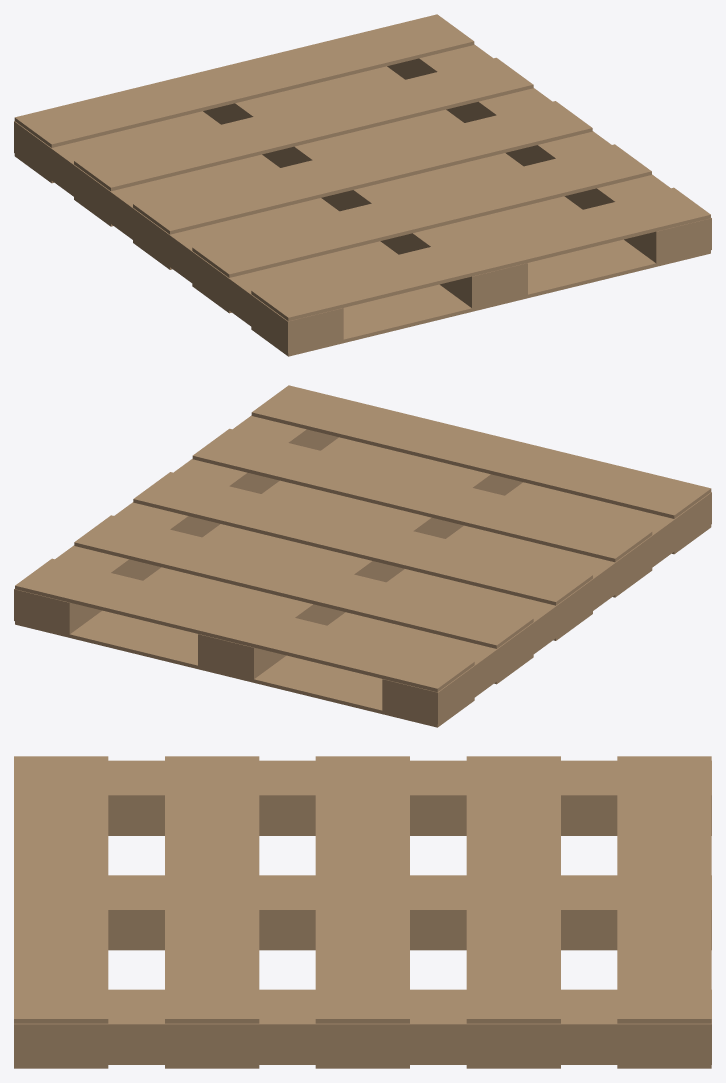
Rendered from wooden_thingy.fbx.
3 renders of one model, top to bottom at view 1: azimuth 30°, elevation 25°; view 2: azimuth 150°, elevation 25°; view 3: azimuth 270°, elevation 25°, orthographic. The views are drawn at different scales.
Visible parts, largest first — view 1: planks; view 2: planks; view 3: planks.
Part boxes in pixels (x1,y1,x2,y2): planks: [14, 14, 711, 356]; planks: [14, 385, 711, 727]; planks: [14, 756, 711, 1068].
Bounding box in the file's own units: 122 × 10.67 × 136.
